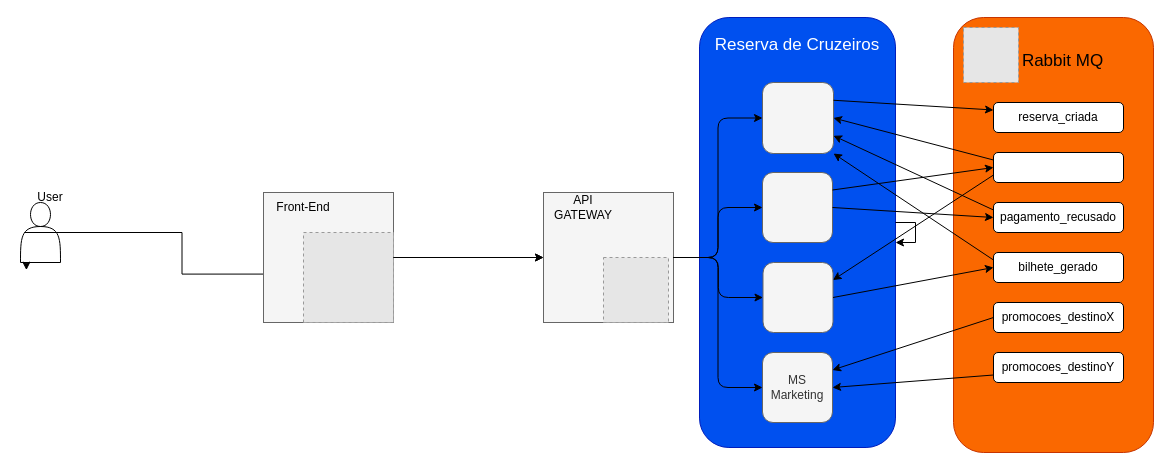
Some shapes in this 1171 by 470 pixel diagram are drawn without their labels. Grey dashed boxes stand in for pictures. Each missing label, with the centre of its shape:
MS Bilhete: the point at 797,297
MS Pagamento: the point at 797,207
MS Reserva: the point at 798,118
pagamento_aprovado: the point at 1058,167
